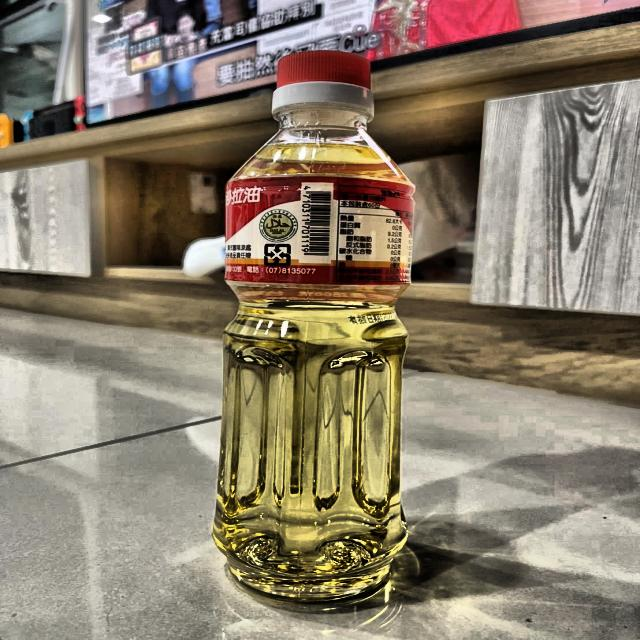Bottles: (194, 50, 423, 608)
